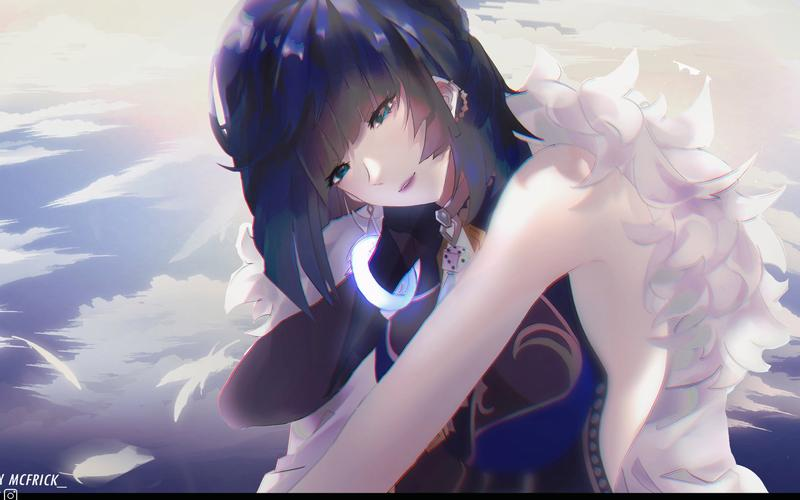夜兰: (200, 3, 668, 499)
